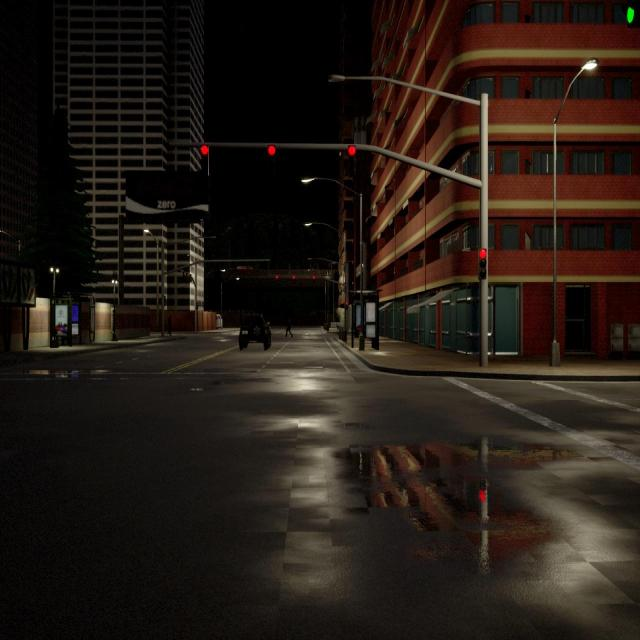Pedestrian: (285, 316, 293, 338), (166, 314, 172, 337)
Vehicle: (238, 312, 272, 350), (216, 314, 223, 330)
traffic_light: (623, 0, 640, 28), (200, 144, 210, 177), (478, 248, 486, 280), (348, 145, 356, 175), (268, 144, 276, 170), (188, 274, 192, 283), (196, 302, 199, 310), (182, 270, 185, 278), (346, 301, 348, 310), (312, 275, 316, 279), (186, 273, 188, 280), (292, 275, 295, 279), (276, 274, 278, 278)
